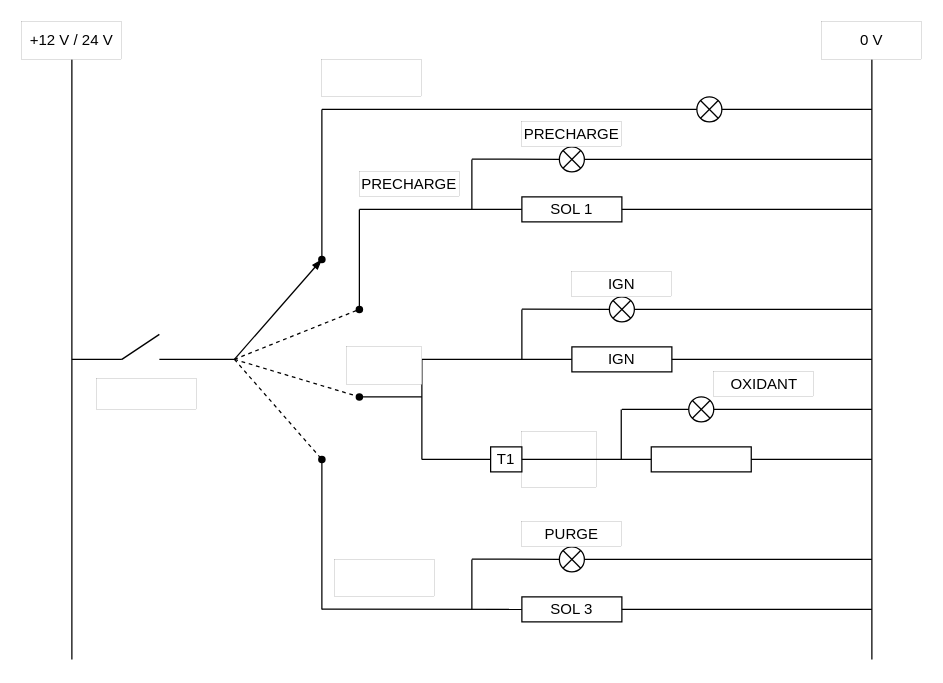
The diagram is 943 pixels wide and 683 high, and some of its shapes have lost their labels. The shapes that lost their labels are listed below. From the top down, each one's centre as x and y in pixels, then its label:
At (x=371, y=77): "STBY".
At (x=383, y=365): "START / RUN".
At (x=146, y=393): "ARM".
At (x=558, y=459): "1 SEC DELAY".
At (x=700, y=459): "SOL 2".
At (x=384, y=577): "SUHTDOWN".
